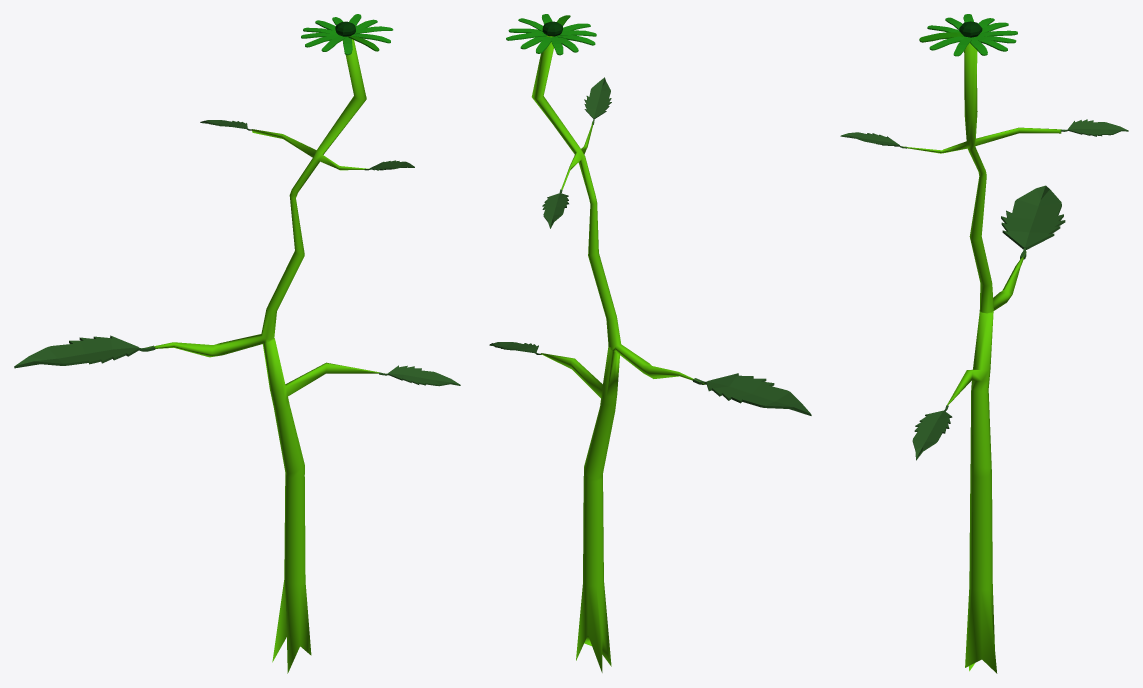
File: Black Eyed Susan vegative Stage.fbx
The picture shows the model from 3 angles, left to right: view 1: azimuth 30°, elevation 25°; view 2: azimuth 150°, elevation 25°; view 3: azimuth 270°, elevation 25°; orthographic projection. The views are drawn at different scales.
Visible parts, largest first — view 1: Cylinder, Plane.012, Plane.015; view 2: Cylinder, Plane.012, Plane.016, Plane.013; view 3: Cylinder, Plane.012, Plane.015, Plane.013, Plane.016.
Part boxes in pixels (bbox=[...]): Cylinder: bbox=[147, 39, 379, 673]; Plane.012: bbox=[14, 335, 155, 368]; Plane.015: bbox=[388, 365, 460, 386]; Cylinder: bbox=[531, 35, 704, 672]; Plane.012: bbox=[692, 373, 811, 415]; Plane.016: bbox=[584, 77, 611, 124]; Plane.013: bbox=[542, 189, 568, 228]; Cylinder: bbox=[902, 43, 1061, 673]; Plane.012: bbox=[1001, 185, 1065, 259]; Plane.015: bbox=[912, 410, 952, 460]; Plane.013: bbox=[1060, 119, 1128, 136]; Plane.016: bbox=[840, 132, 907, 148].
Bounding box in the file's own units: 192 × 302 × 116.
